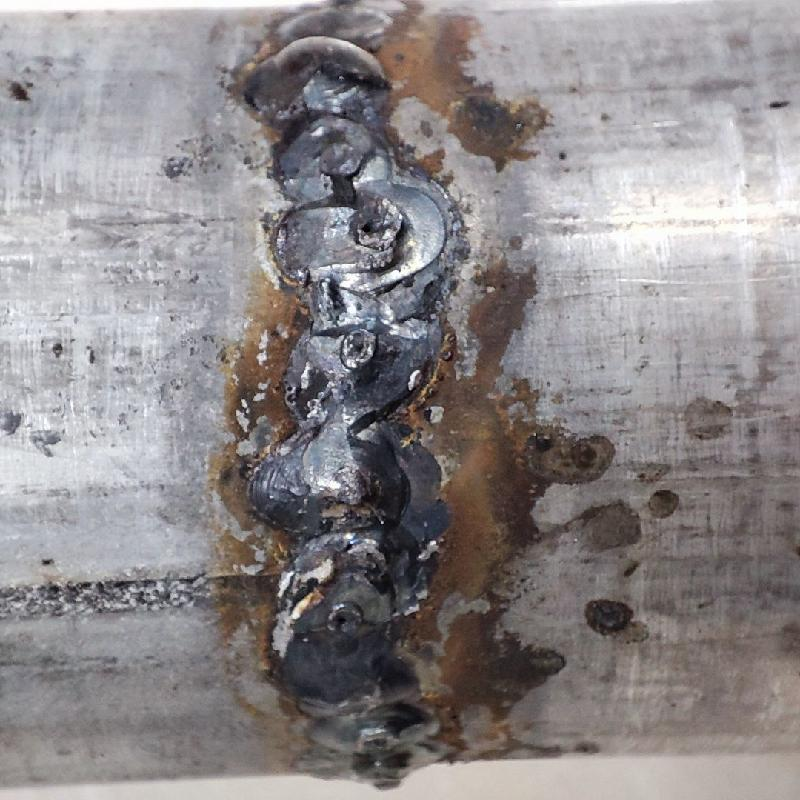Surface_pores: (349, 210, 403, 252), (321, 605, 367, 642), (339, 329, 379, 365)
Weld: (247, 31, 393, 115)
wrong_size: (244, 6, 456, 786)
